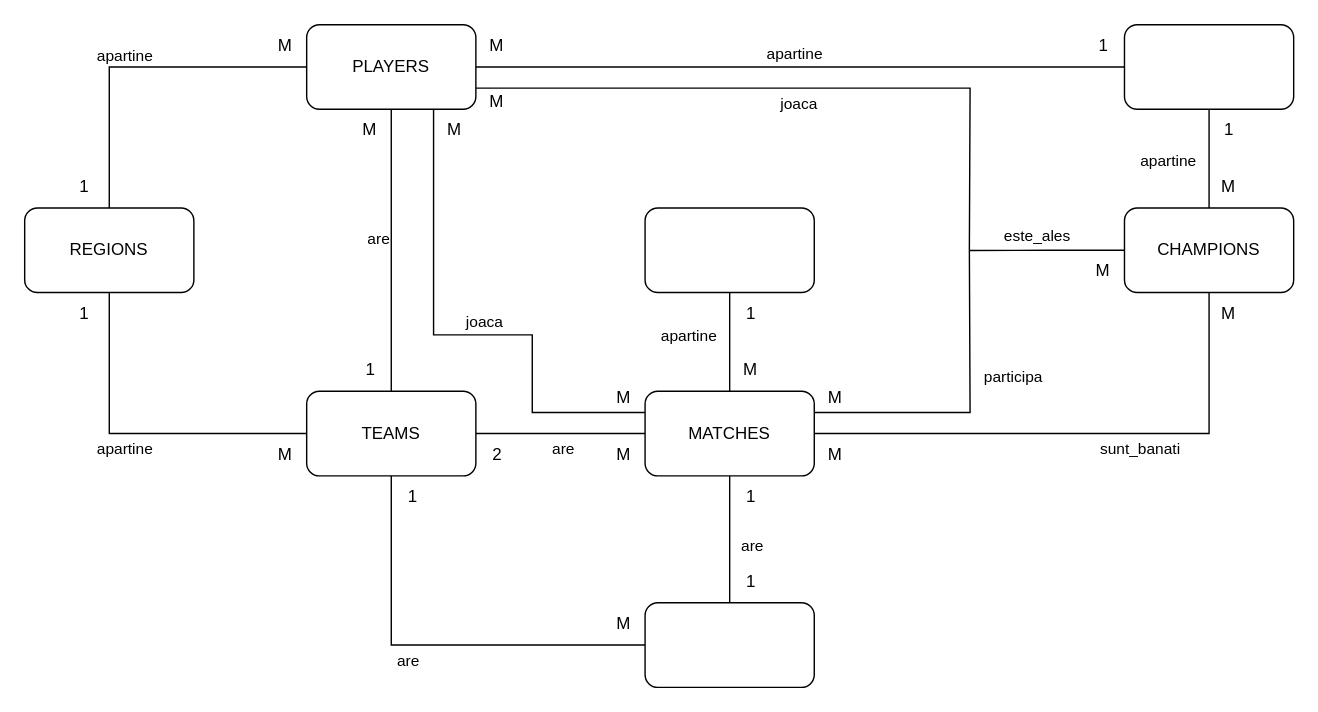
Image size: 1318x712. Some labels were removed from this diagram. The shapes that lost their labels are listed below. From the top down, each one's centre as x and y in pixels, then its label:
At (1208,66): "ROLES".
At (729,250): "TOURNAMENTS".
At (729,644): "MATCH_RESULT".
